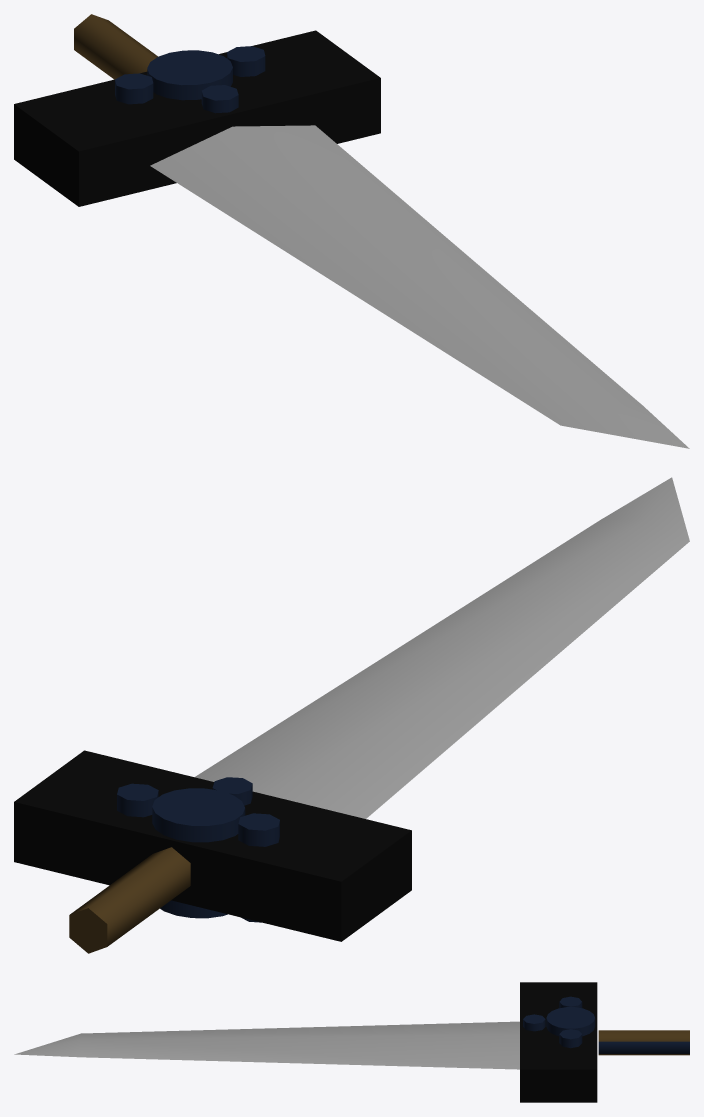
The model's file is Knife.obj.
The picture shows the model from 3 angles, top to bottom: view 1: azimuth 30°, elevation 25°; view 2: azimuth 150°, elevation 25°; view 3: azimuth 270°, elevation 25°; orthographic projection. The views are drawn at different scales.
Visible parts, largest first — view 1: Box001; view 2: Box001; view 3: Box001.
Boxes of the visible parts, x1,y1,x2,y2 form: Box001: (14,14,689,448); Box001: (14,477,689,953); Box001: (14,982,689,1102).
Bounding box in the file's own units: 18.58 × 5 × 60.57.
